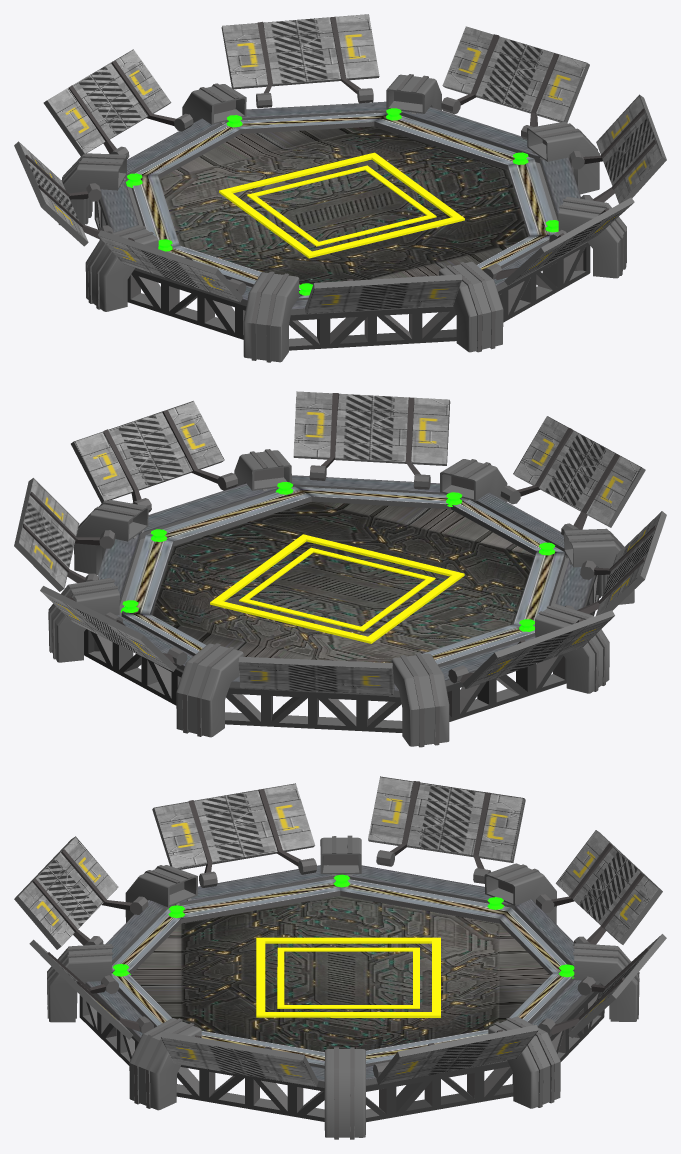
Rendered from transporter3.glb.
The picture shows the model from 3 angles, top to bottom: view 1: azimuth 30°, elevation 25°; view 2: azimuth 150°, elevation 25°; view 3: azimuth 270°, elevation 25°; orthographic projection. The views are drawn at different scales.
Parts seen in each view (by area): view 1: Cube.003; view 2: Cube.003; view 3: Cube.003.
Part boxes in pixels (x1,y1,x2,y2): Cube.003: [14, 14, 666, 362]; Cube.003: [14, 391, 666, 747]; Cube.003: [14, 776, 666, 1139].
Size of the model in its own units: 9.14 by 1.52 by 8.93.
Materials: 9 (3 with a texture image).
